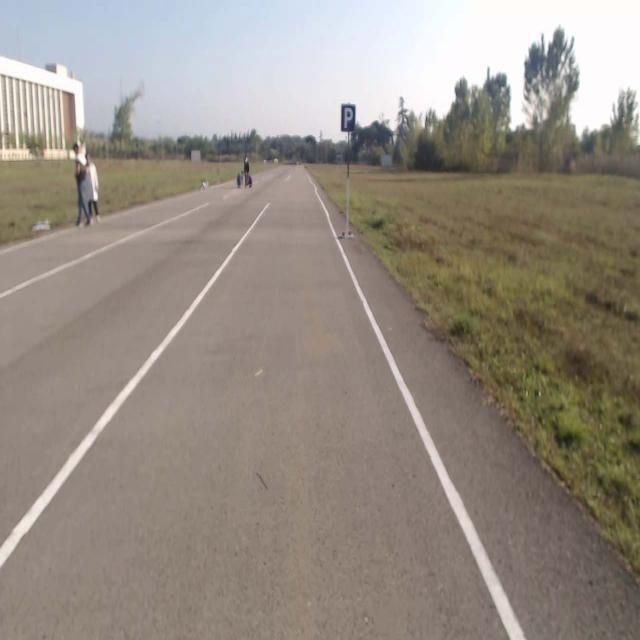park: (341, 104, 355, 132)
